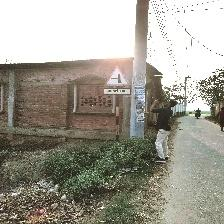Side-road-left: (104, 66, 131, 95)
